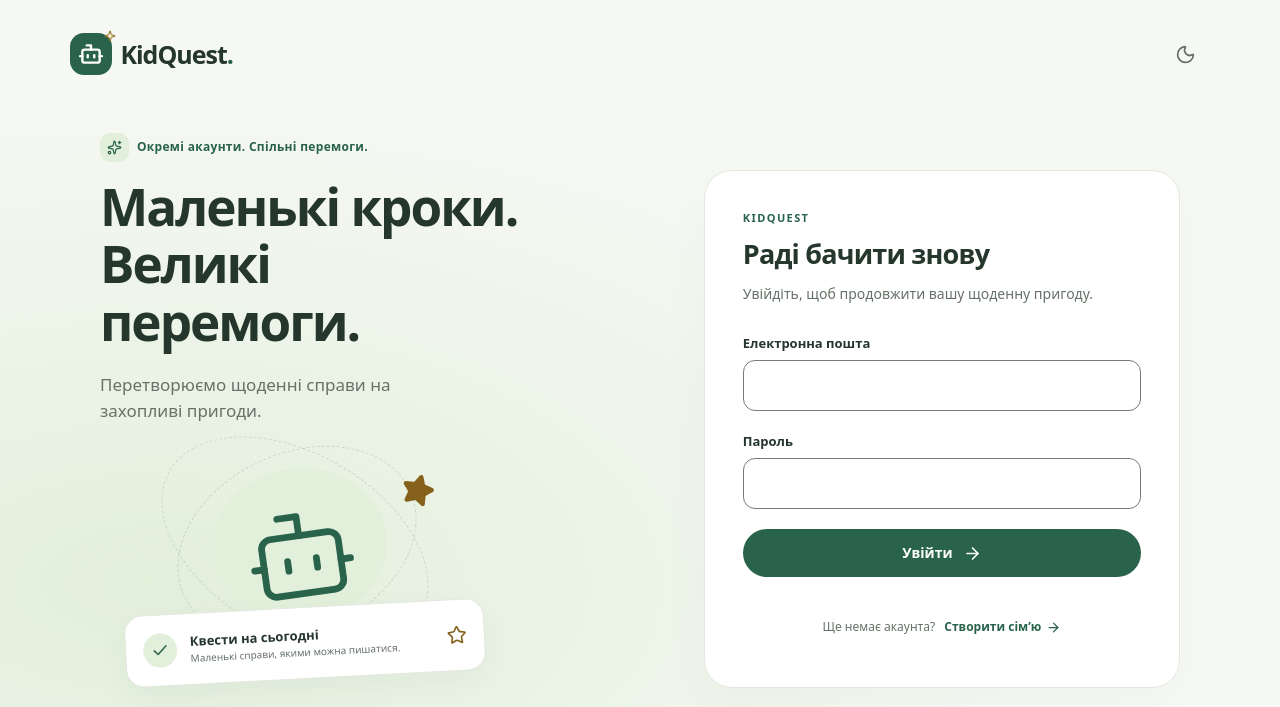
Test: Ukrainian authentication flow › validates login locally before contacting the API
The image size is (1280, 707).
Type "invalid-email" into the field labelled "Електронна пошта" at x=942, y=386, box [743, 360, 1141, 411]
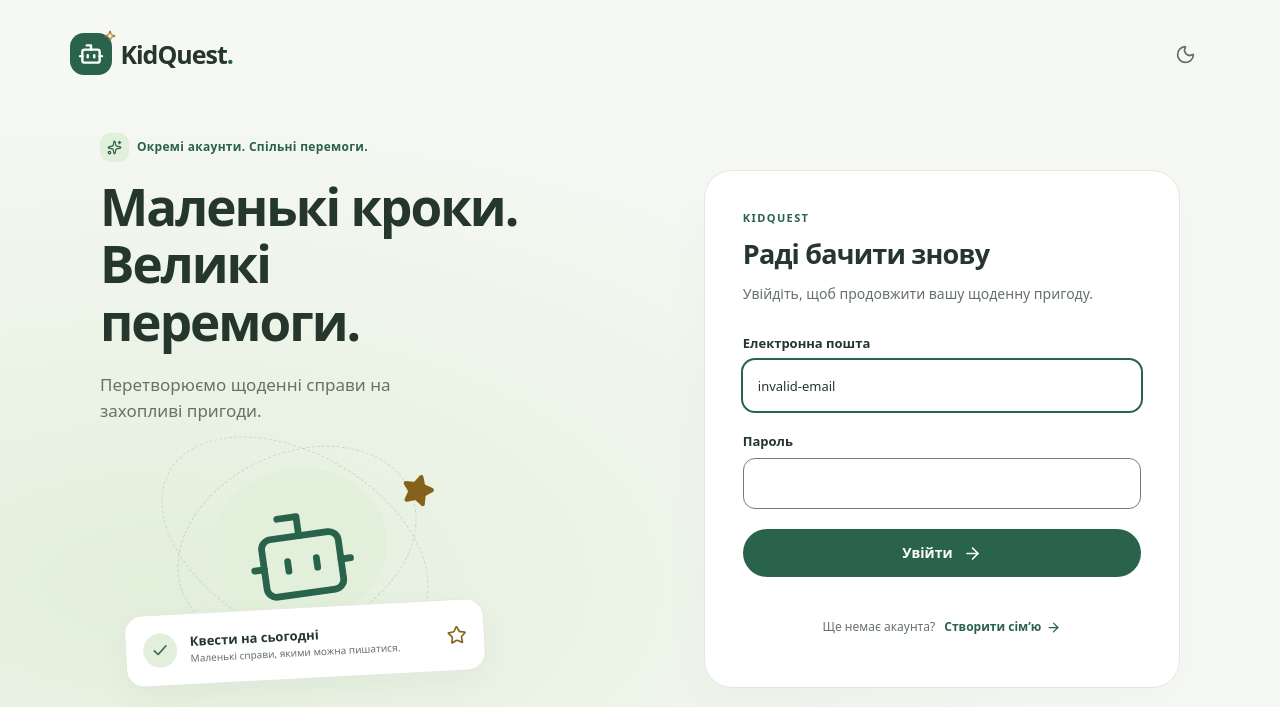
Click the button "Увійти" at x=942, y=553, box [743, 529, 1141, 577]
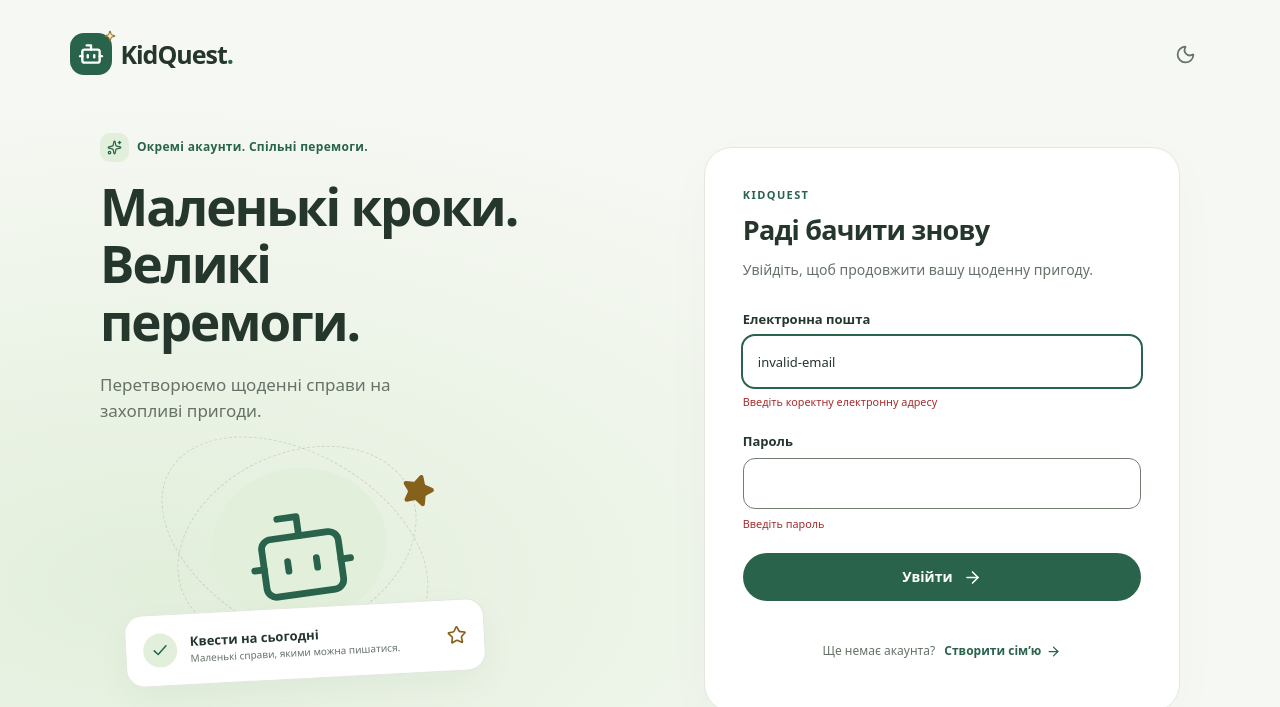
Check: the text "Введіть коректну електронну адресу" is shown, box [743, 394, 937, 409]
Check: the text "Введіть пароль" is shown, box [743, 516, 824, 531]
